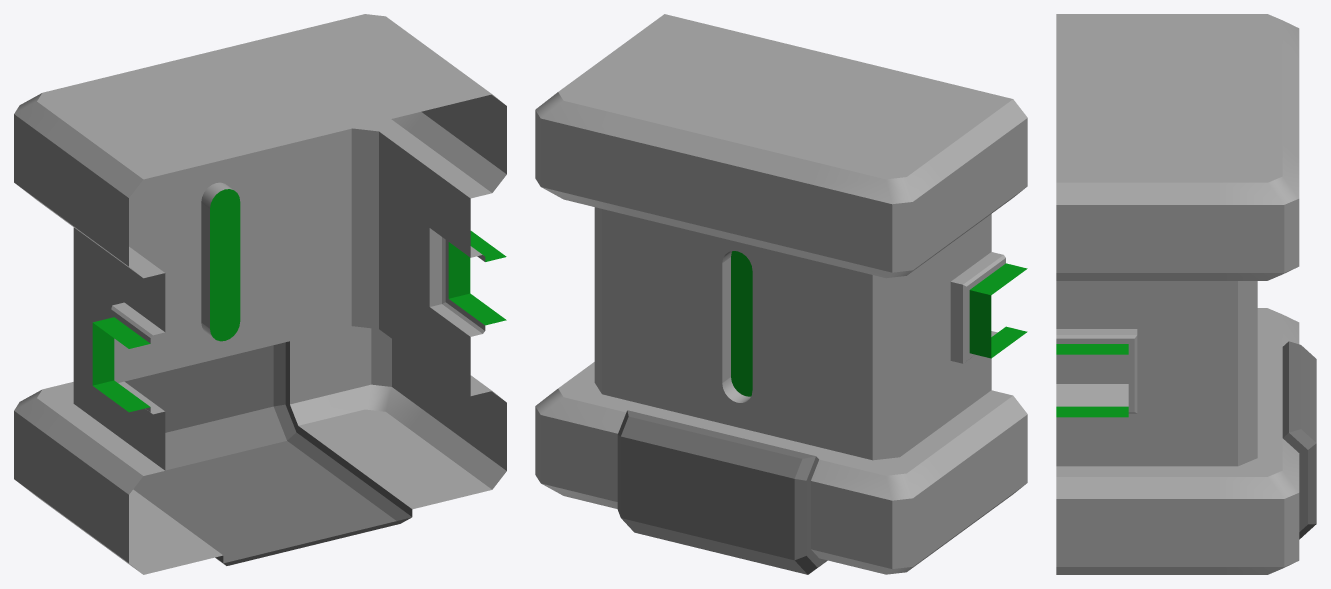
Rendered from Geo_Energyverteiler.fbx.
3 renders of one model, left to right at view 1: azimuth 30°, elevation 25°; view 2: azimuth 150°, elevation 25°; view 3: azimuth 270°, elevation 25°, orthographic.
Parts seen in each view (by area): view 1: Geo_Energy_verteiler; view 2: Geo_Energy_verteiler; view 3: Geo_Energy_verteiler.
Boxes of the visible parts, box(x1,y1,x2,y2) form: Geo_Energy_verteiler: box(14, 14, 506, 574); Geo_Energy_verteiler: box(535, 14, 1027, 574); Geo_Energy_verteiler: box(1056, 14, 1316, 574).
Bounding box in the file's own units: 50 × 52 × 30.08.
